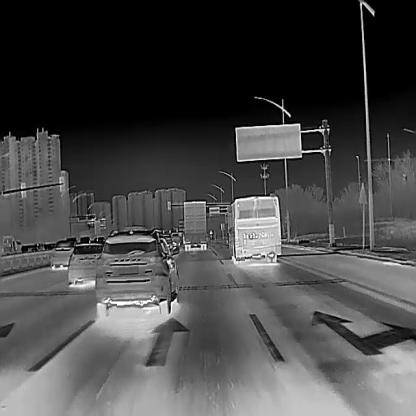bus: (224, 192, 281, 265), (170, 230, 179, 244)
car: (94, 228, 179, 317), (68, 243, 104, 285), (51, 238, 74, 268), (78, 234, 91, 244), (93, 233, 105, 242)
truck: (183, 200, 206, 251)
